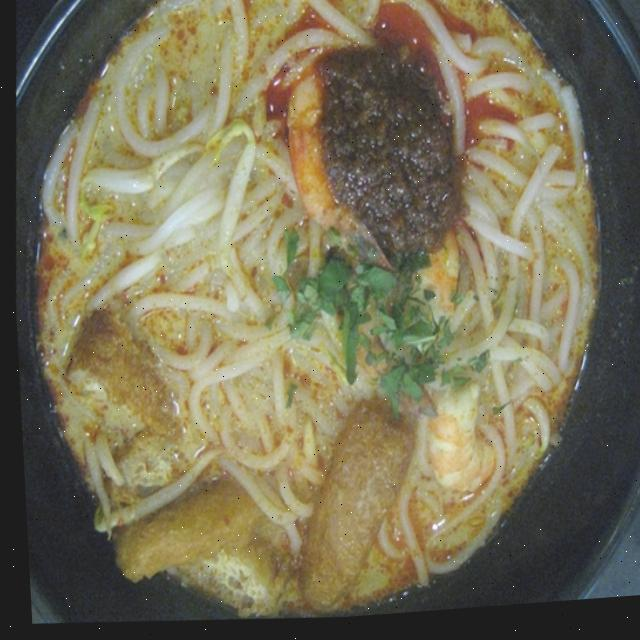面条主食: (4, 0, 633, 616)
